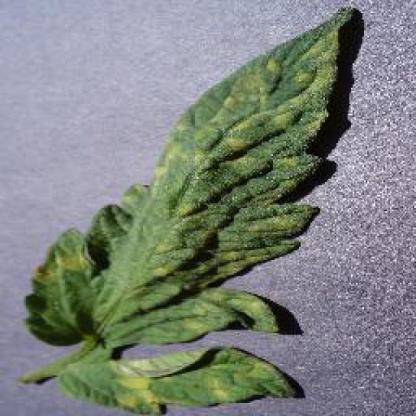Tomato_Leaf_Mold: (29, 7, 354, 342)
